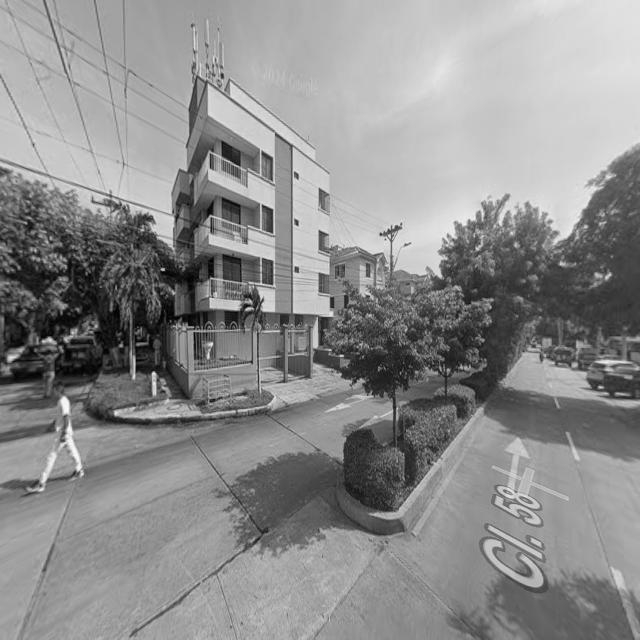Fachada: (161, 42, 333, 398), (330, 246, 386, 318), (392, 270, 427, 297)
Poste: (379, 224, 402, 282), (399, 242, 411, 254)
